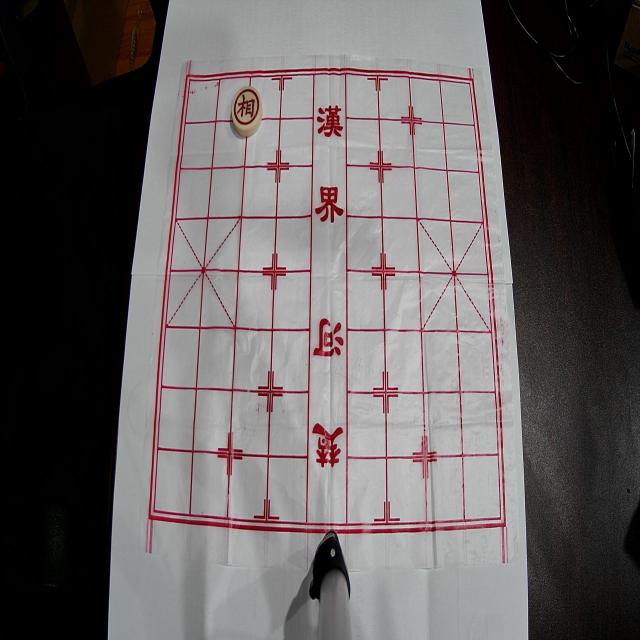red-elephant: (232, 86, 262, 136)
